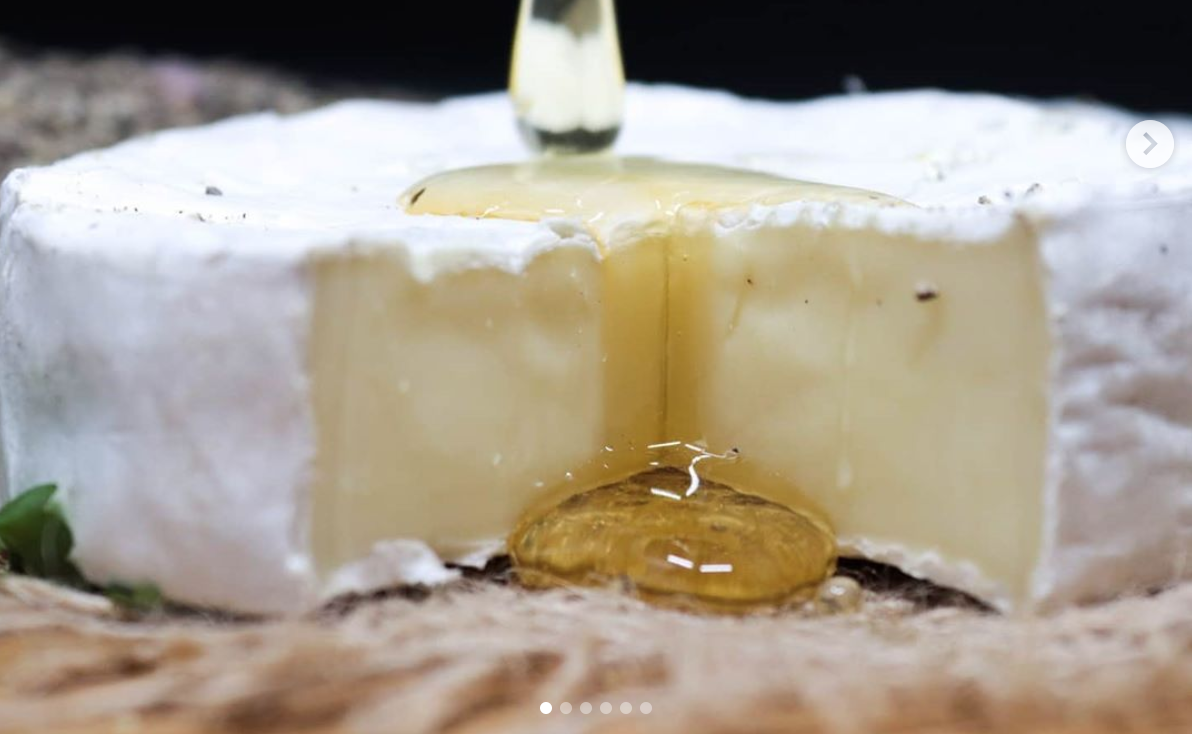camembert: (1, 62, 1192, 631)
